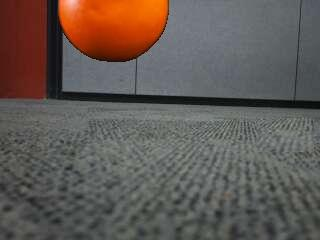Orange: (56, 0, 170, 63)
